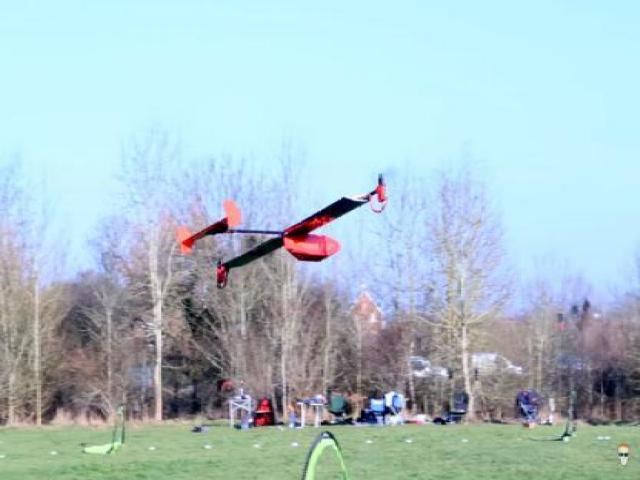uav: (166, 166, 402, 293)
